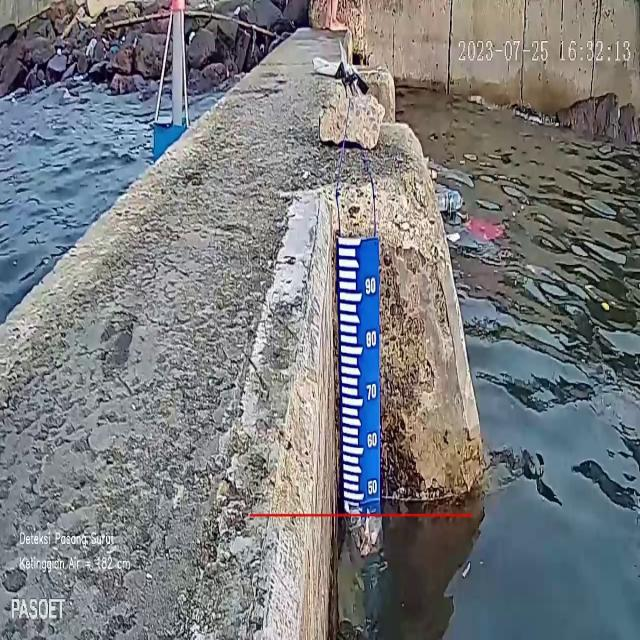50: (368, 479, 378, 496)
60: (367, 431, 377, 448)
70: (366, 383, 377, 401)
80: (366, 330, 377, 349)
90: (365, 276, 376, 296)
staff: (338, 236, 381, 503)
